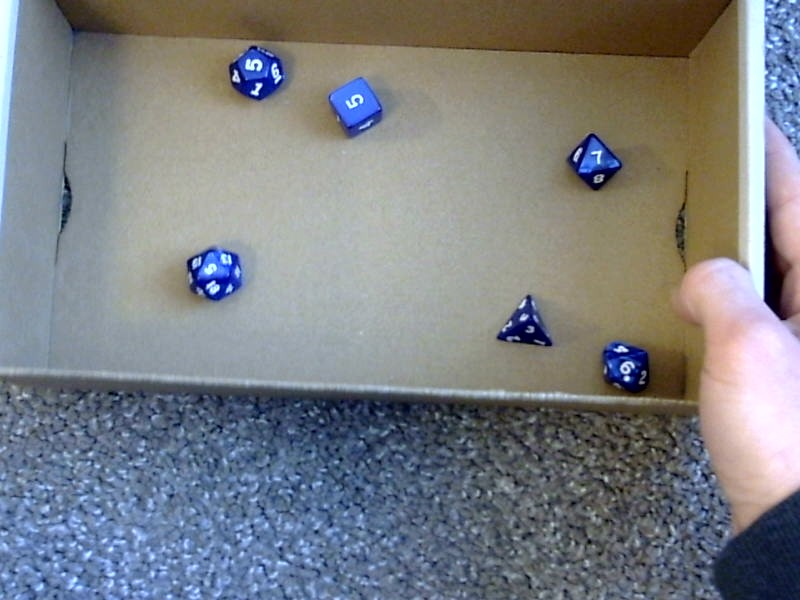d10 6: (591, 335, 655, 395)
d12 5: (218, 38, 289, 106)
d20 5: (179, 238, 247, 308)
d4 3: (492, 280, 557, 355)
d6 5: (321, 68, 386, 139)
d8 7: (559, 128, 626, 194)
